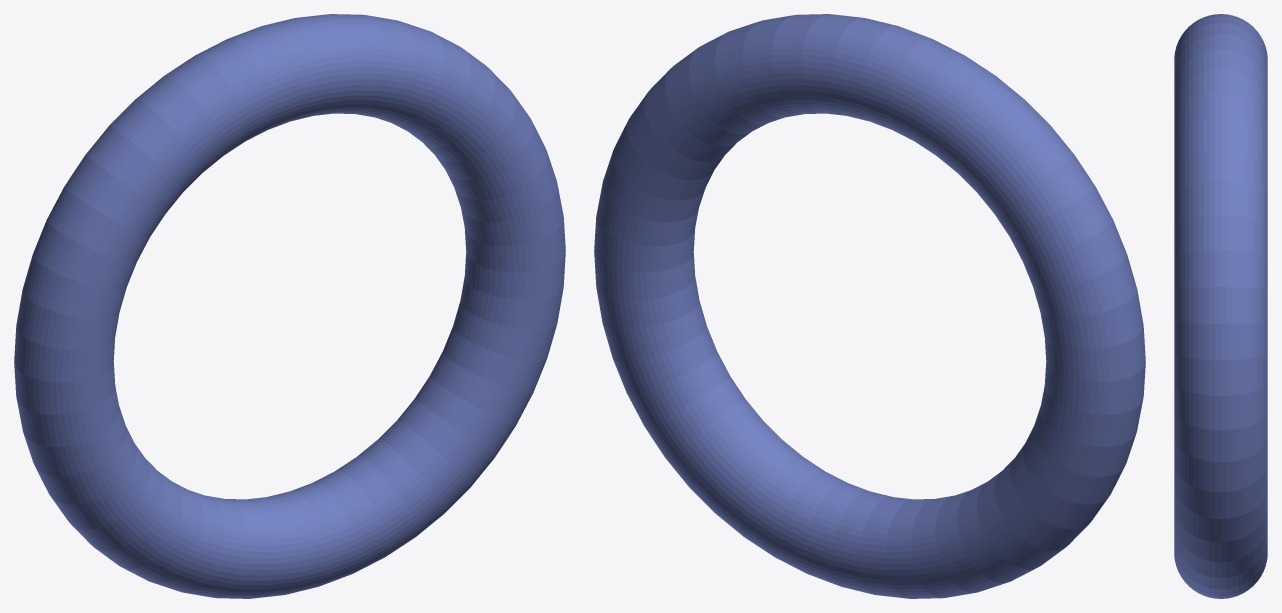
The picture shows the model from 3 angles, left to right: view 1: azimuth 30°, elevation 25°; view 2: azimuth 150°, elevation 25°; view 3: azimuth 270°, elevation 25°; orthographic projection. The views are drawn at different scales.
Parts seen in each view (by area): view 1: world; view 2: world; view 3: world.
Part boxes in pixels (x1,y1,x2,y2): world: [14, 14, 565, 598]; world: [594, 14, 1145, 598]; world: [1174, 14, 1267, 598].
Size of the model in its own units: 17.47 by 17.43 by 2.79.
